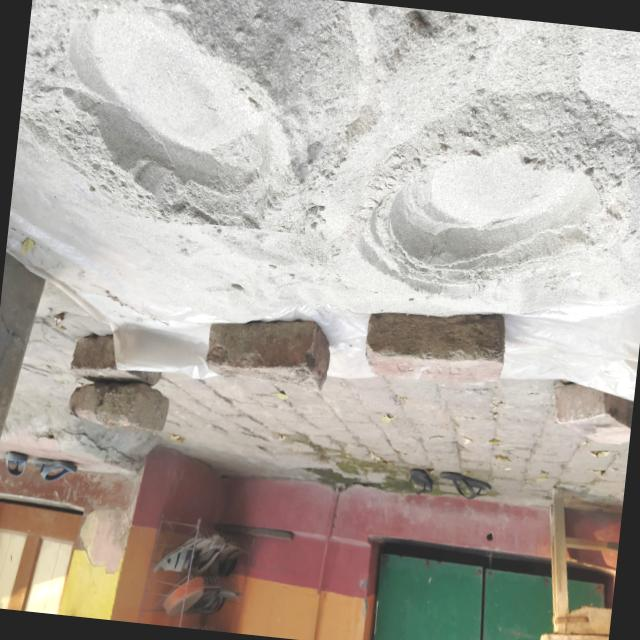C20: (59, 2, 308, 233), (368, 144, 626, 291)
